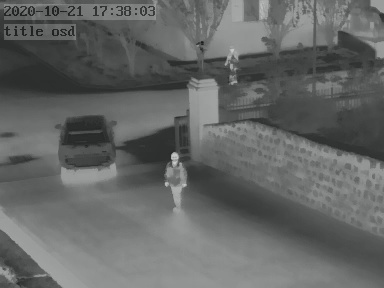person: (163, 148, 188, 208), (224, 46, 237, 85)
vehicle: (55, 115, 119, 184)
